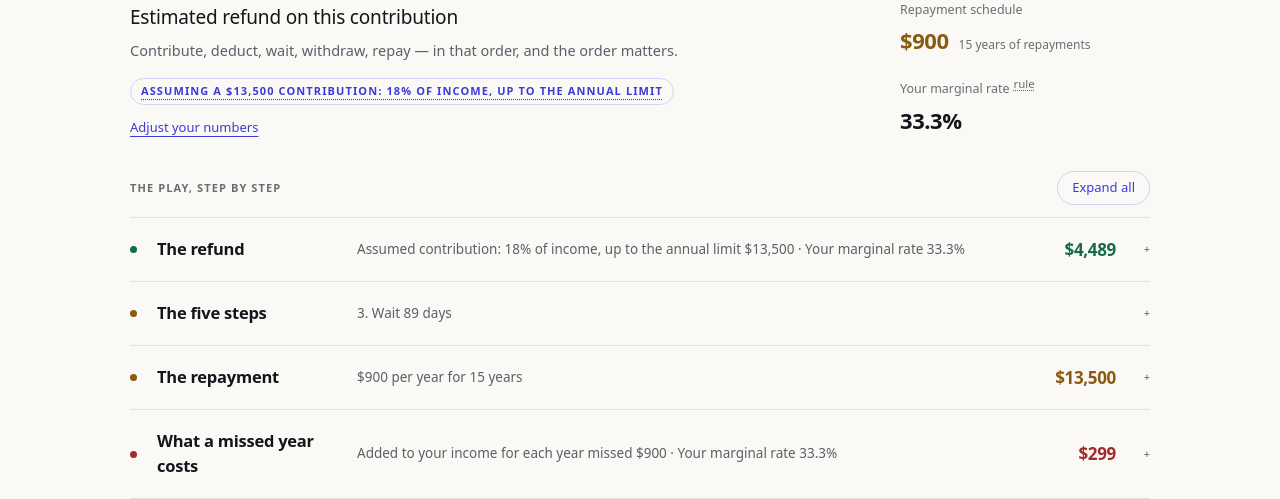
Scenario: RRSP → HBP — the rules › says the 89-day rule once, without contradicting itself
Step 1. Click the button "The five steps 3. Wait 89 days +" → (212, 313), box x1=130 y1=282 x2=1150 y2=345
(page scrolled)
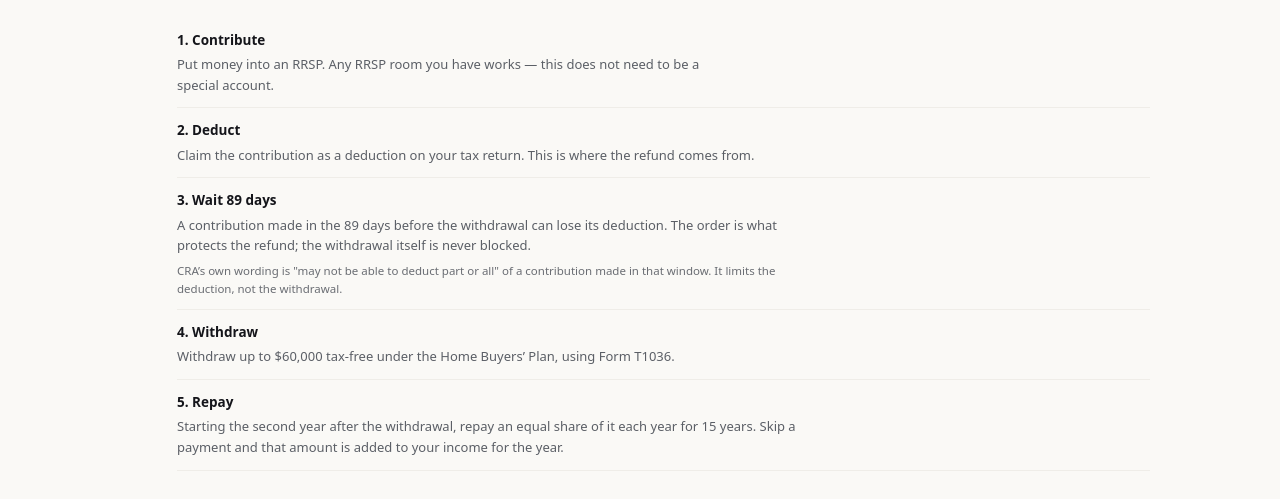
expect the text "the order is what protects the refund" is shown: met, box x1=177 y1=216 x2=777 y2=254
